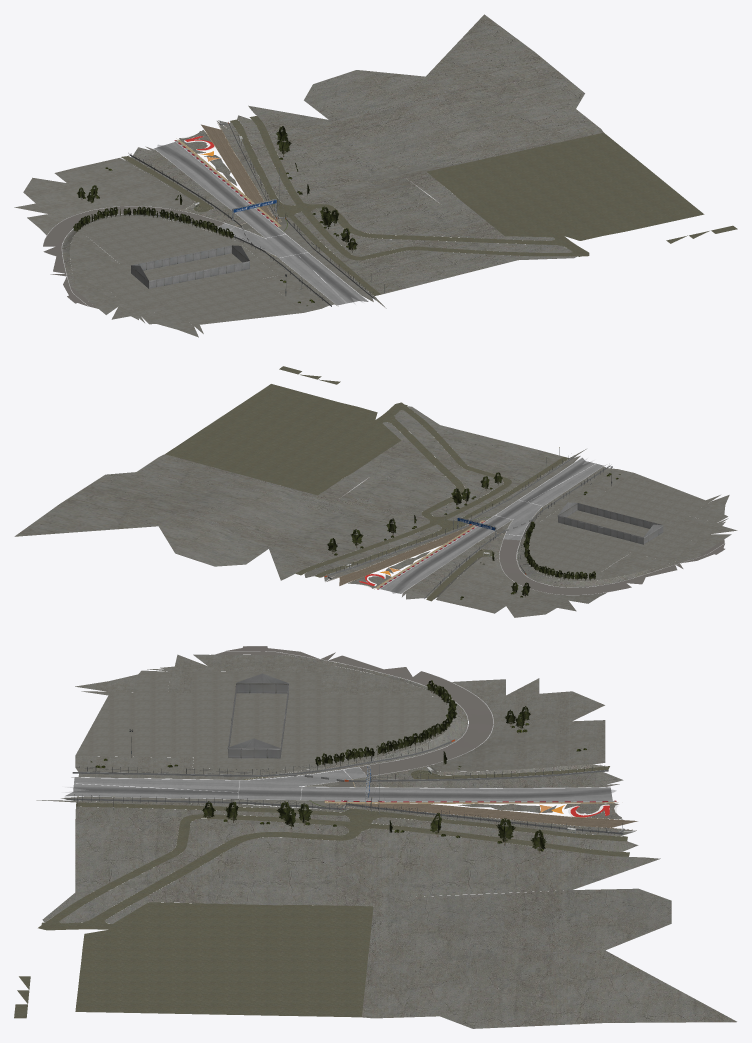
The picture shows the model from 3 angles, top to bottom: view 1: azimuth 30°, elevation 25°; view 2: azimuth 150°, elevation 25°; view 3: azimuth 270°, elevation 25°; orthographic projection. The views are drawn at different scales.
Visible parts, largest first — view 1: tile_t13; view 2: tile_t13; view 3: tile_t13.
Boxes of the visible parts, x1,y1,x2,y2 form: tile_t13: (14, 14, 737, 337); tile_t13: (14, 366, 737, 617); tile_t13: (14, 646, 736, 1028).
Size of the model in its own units: 438 by 28.92 by 350.
32 materials, 32 textured.
